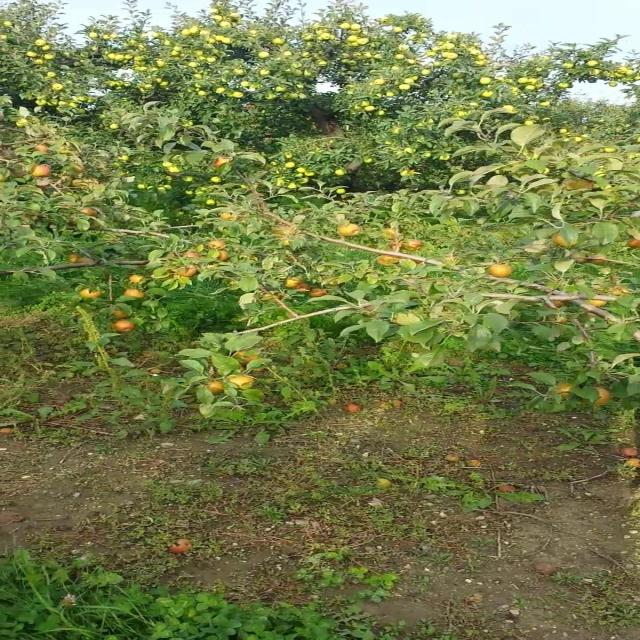apple: (227, 376, 256, 391), (234, 352, 261, 368), (397, 312, 420, 327), (490, 264, 512, 279), (554, 384, 576, 399), (340, 224, 363, 236), (596, 388, 612, 405), (113, 320, 135, 332), (205, 384, 228, 395), (362, 304, 380, 318), (177, 268, 199, 279), (575, 180, 597, 190), (568, 180, 590, 190), (554, 236, 572, 248), (404, 240, 423, 251), (205, 240, 228, 249), (383, 228, 400, 240), (589, 256, 612, 264), (35, 164, 50, 176), (220, 212, 240, 221), (84, 288, 100, 299), (383, 256, 402, 265), (589, 300, 610, 308), (312, 288, 327, 299), (547, 300, 567, 308), (611, 288, 631, 296), (212, 160, 231, 168), (127, 292, 148, 299), (284, 280, 302, 288), (390, 240, 404, 250), (84, 208, 100, 216), (220, 252, 231, 263), (35, 144, 50, 152), (184, 252, 199, 260), (575, 256, 590, 264), (70, 180, 85, 188), (77, 260, 96, 266), (113, 312, 128, 319), (70, 256, 82, 264), (134, 276, 146, 284), (42, 184, 52, 192), (632, 240, 639, 248)
